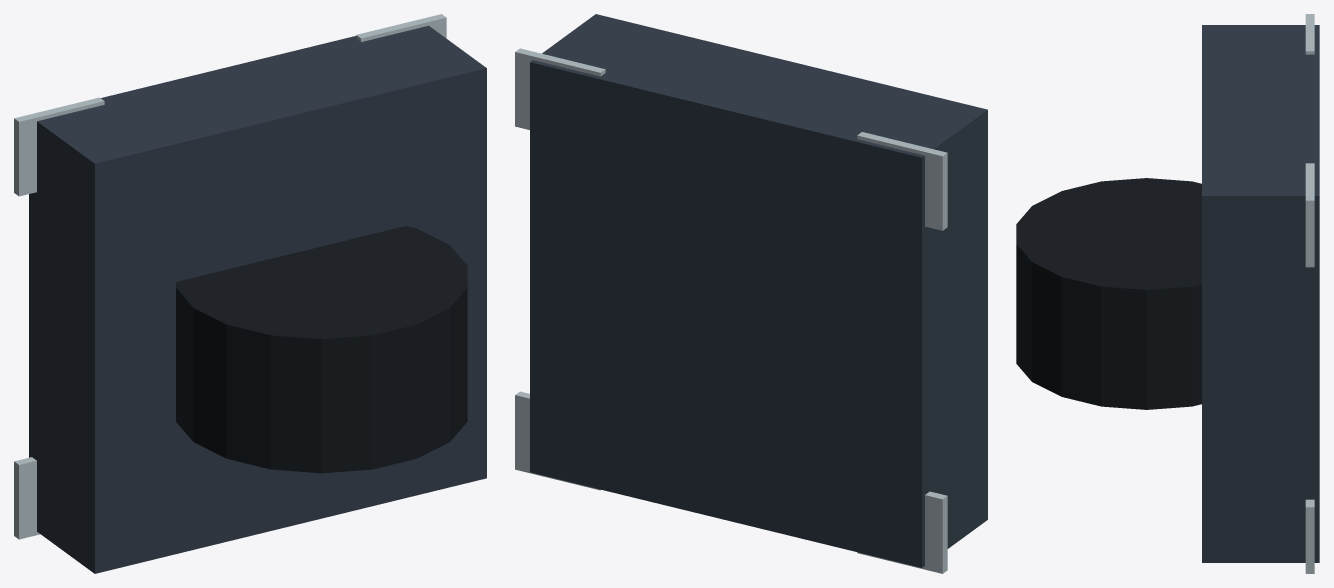
3 views of the same model, side by side, from view 1: azimuth 30°, elevation 25°; view 2: azimuth 150°, elevation 25°; view 3: azimuth 270°, elevation 25° (orthographic). The views are drawn at different scales.
Parts seen in each view (by area): view 1: SW1; view 2: SW1; view 3: SW1.
Part boxes in pixels (<box>): SW1: <box>14,14,486,573</box>; SW1: <box>515,14,987,573</box>; SW1: <box>1016,14,1319,573</box>.
Size of the model in its own units: 0.006 by 0.0056 by 0.00412.
